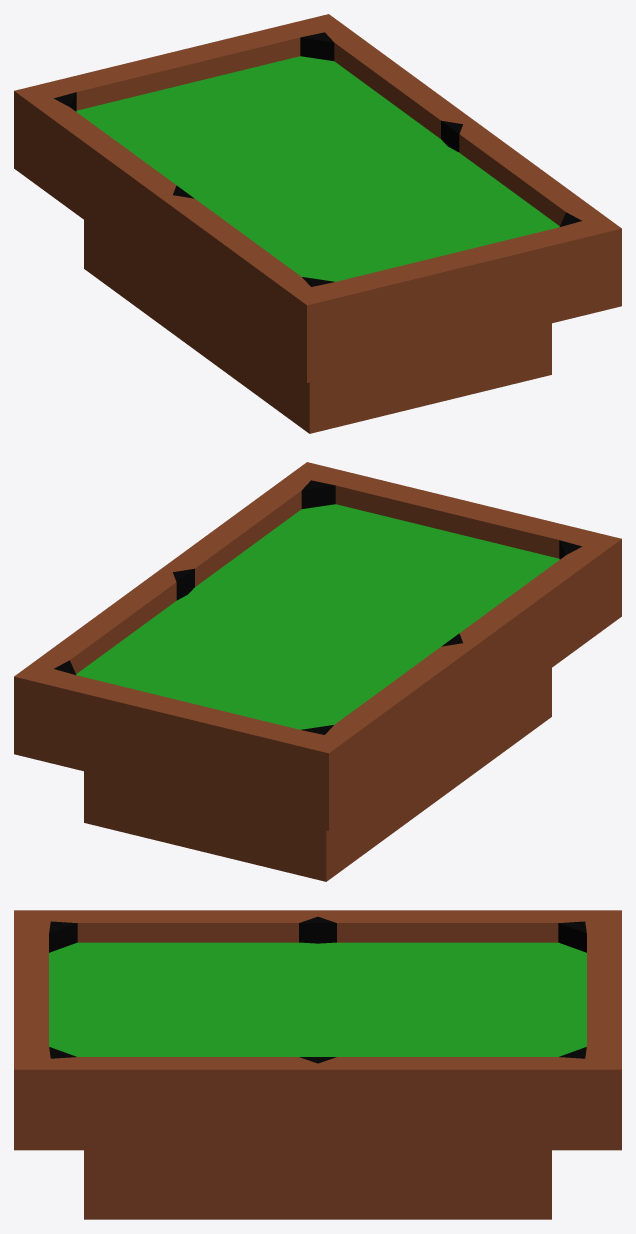
The model's file is pooltable.fbx.
The picture shows the model from 3 angles, top to bottom: view 1: azimuth 30°, elevation 25°; view 2: azimuth 150°, elevation 25°; view 3: azimuth 270°, elevation 25°; orthographic projection. The views are drawn at different scales.
Visible parts, largest first — view 1: Mesh_PoolTable; view 2: Mesh_PoolTable; view 3: Mesh_PoolTable.
Boxes of the visible parts, x1,y1,x2,y2 form: Mesh_PoolTable: (14,14,621,433); Mesh_PoolTable: (14,462,621,881); Mesh_PoolTable: (14,910,621,1219).
Bounding box in the file's own units: 155 × 76.35 × 250.
